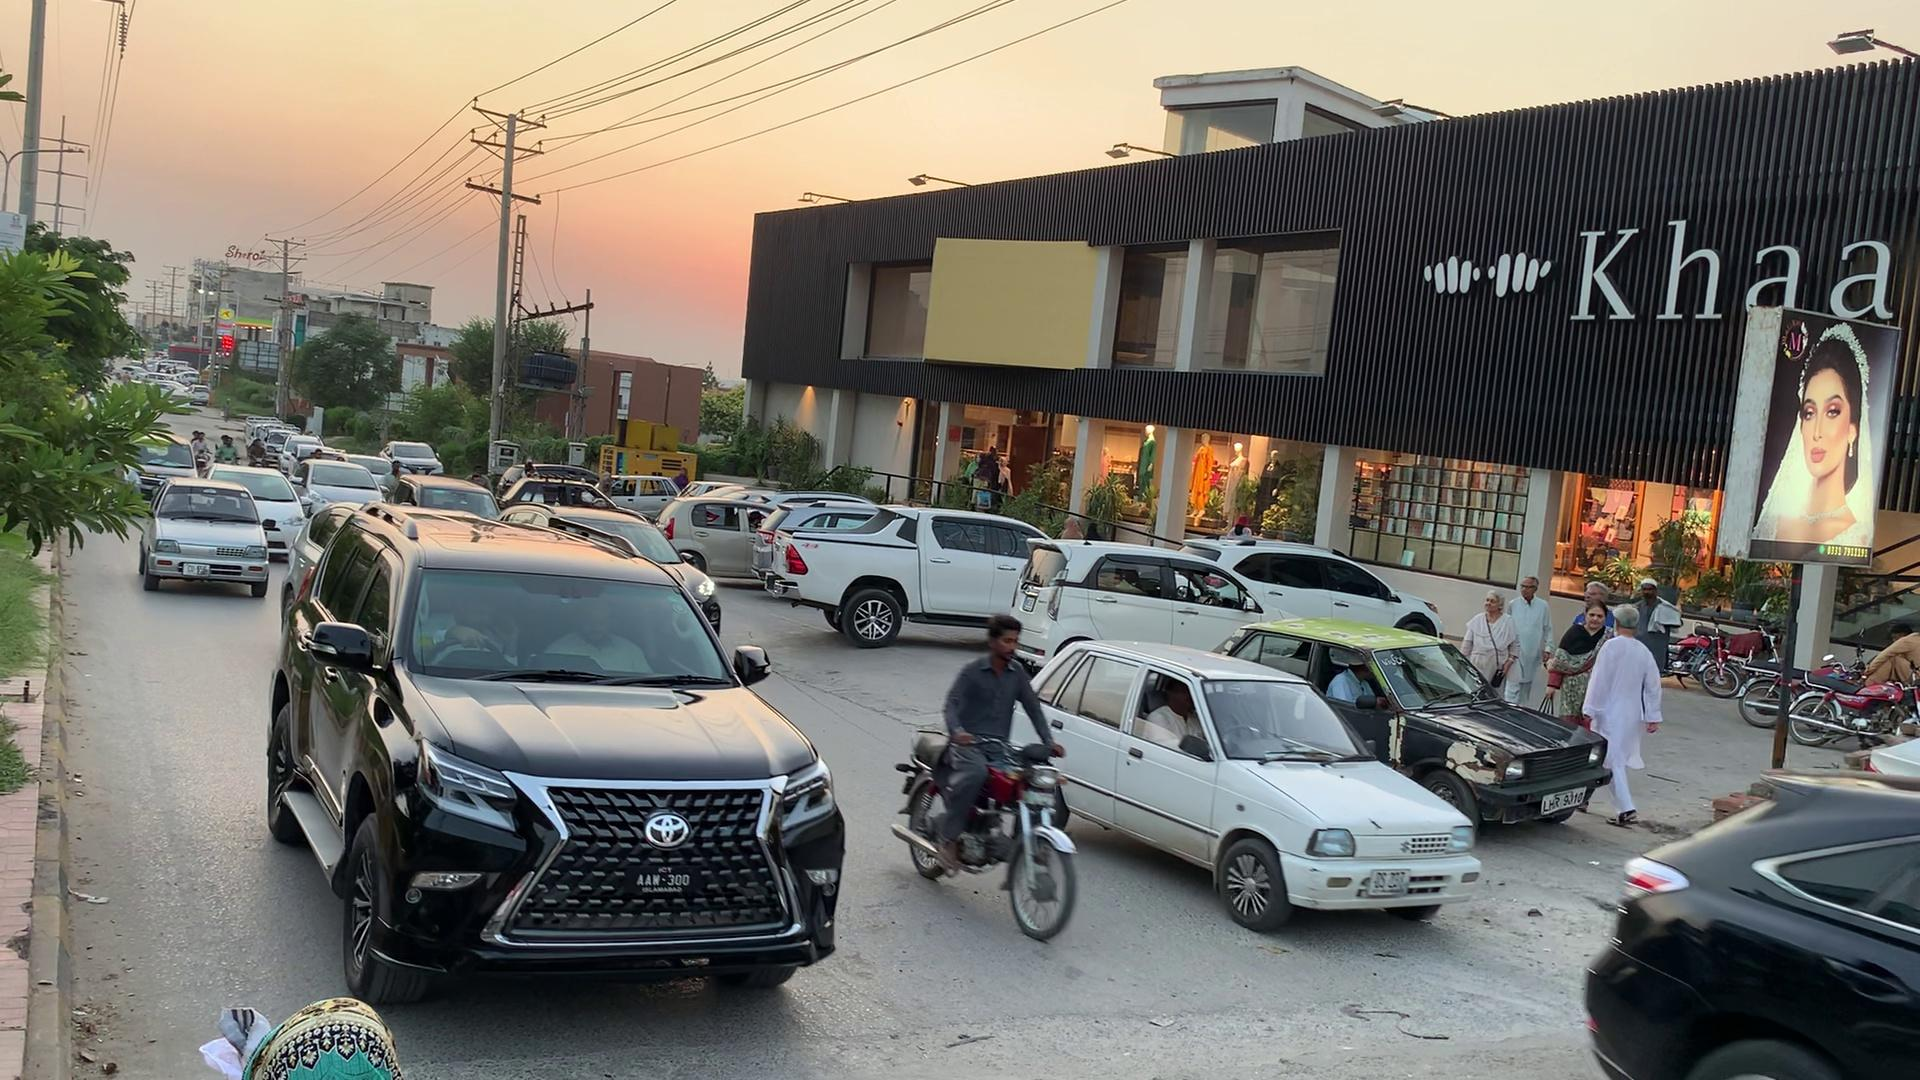windshield: (407, 543, 761, 694)
